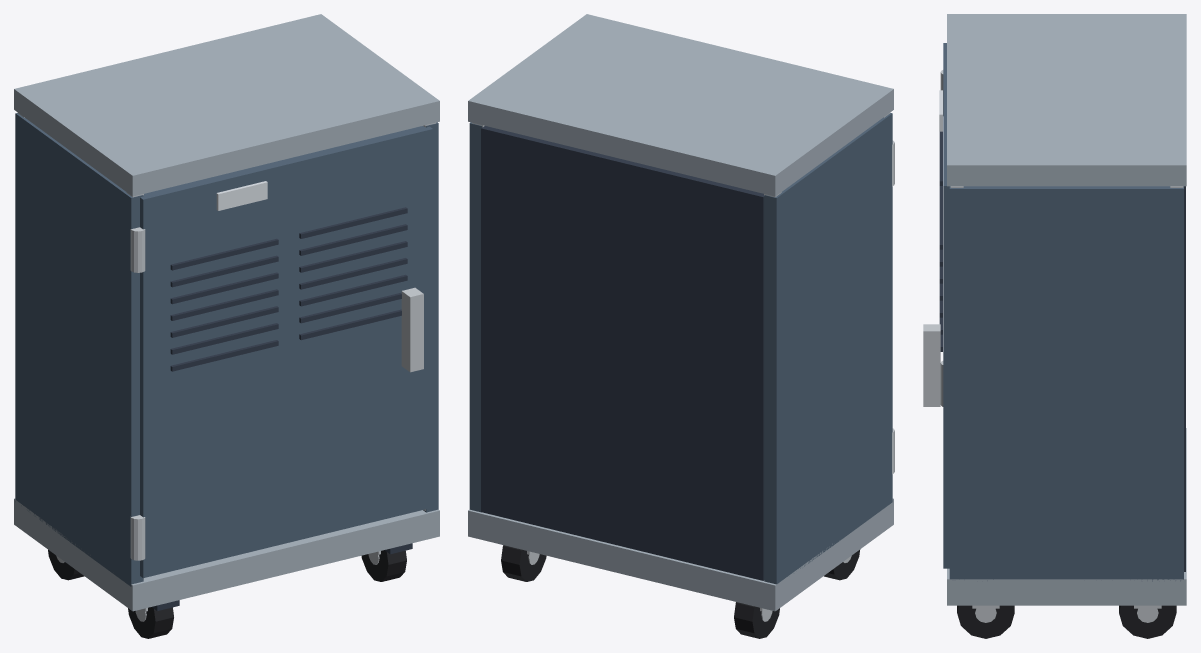
File: cart-illustrative-v1.glb
The picture shows the model from 3 angles, left to right: view 1: azimuth 30°, elevation 25°; view 2: azimuth 150°, elevation 25°; view 3: azimuth 270°, elevation 25°; orthographic projection.
Visible parts, largest first — view 1: door-panel, side--1, top, base, side-1, handle, wheel--0.47-0.28, wheel-0.47-0.28, badge, vent--1-3, vent--1-5, vent--1-6 (+13 smaller); view 2: back, side--1, top, base, side-1, wheel--0.47--0.28, wheel-0.47--0.28; view 3: side-1, top, base, door-panel, handle, wheel-0.47-0.28, wheel-0.47--0.28, back.
Boxes of the visible parts, left/top/right/bottom form: door-panel: left=140, top=126, right=432, bottom=578; side--1: left=15, top=113, right=143, bottom=586; top: left=14, top=14, right=439, bottom=196; base: left=14, top=498, right=439, bottom=611; side-1: left=423, top=122, right=438, bottom=512; handle: left=401, top=287, right=423, bottom=372; wheel--0.47-0.28: left=128, top=607, right=173, bottom=638; wheel-0.47-0.28: left=361, top=550, right=406, bottom=581; badge: left=216, top=181, right=267, bottom=210; vent--1-3: left=170, top=289, right=278, bottom=320; vent--1-5: left=170, top=323, right=278, bottom=354; vent--1-6: left=170, top=340, right=278, bottom=371; back: left=481, top=126, right=764, bottom=580; side--1: left=764, top=113, right=892, bottom=584; top: left=468, top=14, right=893, bottom=196; base: left=468, top=498, right=893, bottom=611; side-1: left=469, top=122, right=482, bottom=512; wheel--0.47--0.28: left=734, top=602, right=779, bottom=638; wheel-0.47--0.28: left=501, top=545, right=546, bottom=581; side-1: left=949, top=186, right=1183, bottom=581; top: left=947, top=14, right=1186, bottom=186; base: left=947, top=428, right=1186, bottom=605; door-panel: left=943, top=43, right=949, bottom=568; handle: left=923, top=324, right=940, bottom=406; wheel-0.47-0.28: left=957, top=605, right=1014, bottom=638; wheel-0.47--0.28: left=1119, top=605, right=1176, bottom=638; back: left=1184, top=186, right=1185, bottom=571.
Bounding box in the file's own units: 1.24 × 1.86 × 0.912.
